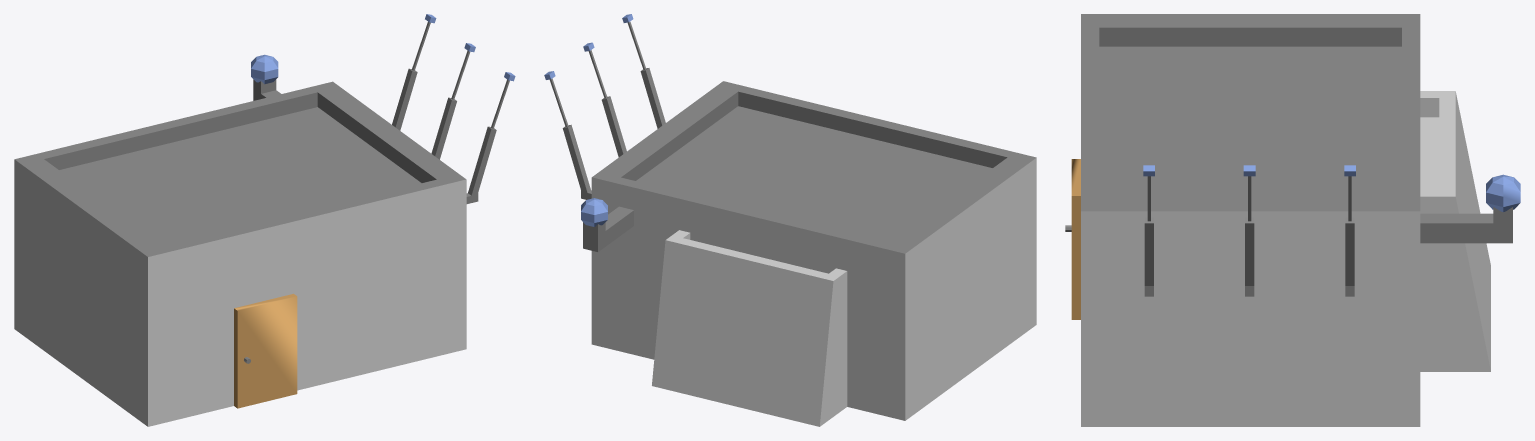
File: bMinisub2.glb
3 views of the same model, side by side, from view 1: azimuth 30°, elevation 25°; view 2: azimuth 150°, elevation 25°; view 3: azimuth 270°, elevation 25° (orthographic). The views are drawn at different scales.
Parts seen in each view (by area): view 1: Мини Подстанция 2; view 2: Мини Подстанция 2; view 3: Мини Подстанция 2.
Part boxes in pixels (<box>): Мини Подстанция 2: <box>14,14,515,426</box>; Мини Подстанция 2: <box>544,14,1036,426</box>; Мини Подстанция 2: <box>1065,14,1520,426</box>.
Size of the model in its own units: 10.29 by 6 by 8.15.
